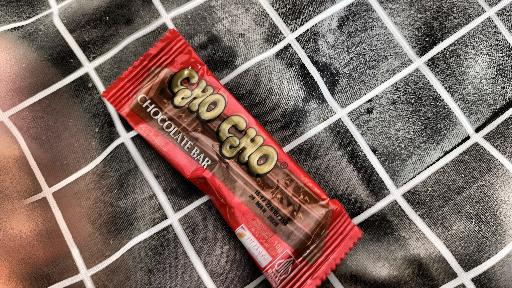chocho: (83, 20, 385, 282)
